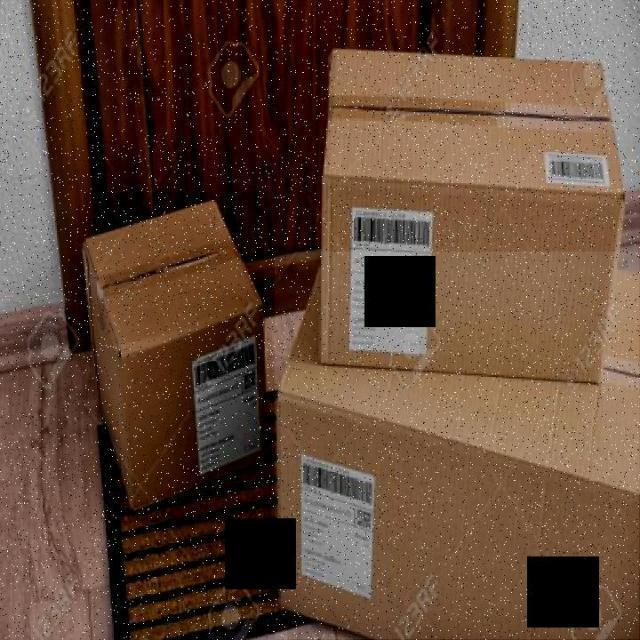box: (274, 252, 640, 640), (318, 39, 620, 398), (84, 192, 272, 524)
